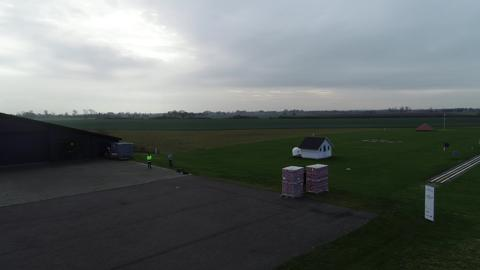RockwoolPallet: (305, 163, 328, 194)
